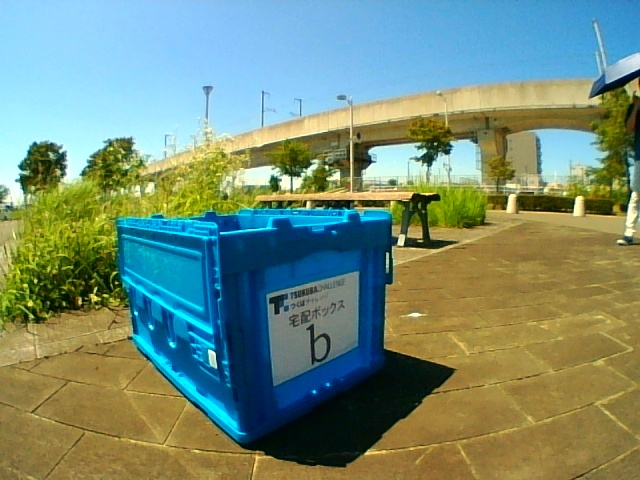blue_box: (153, 216, 383, 366)
tag_b: (291, 298, 333, 365)
